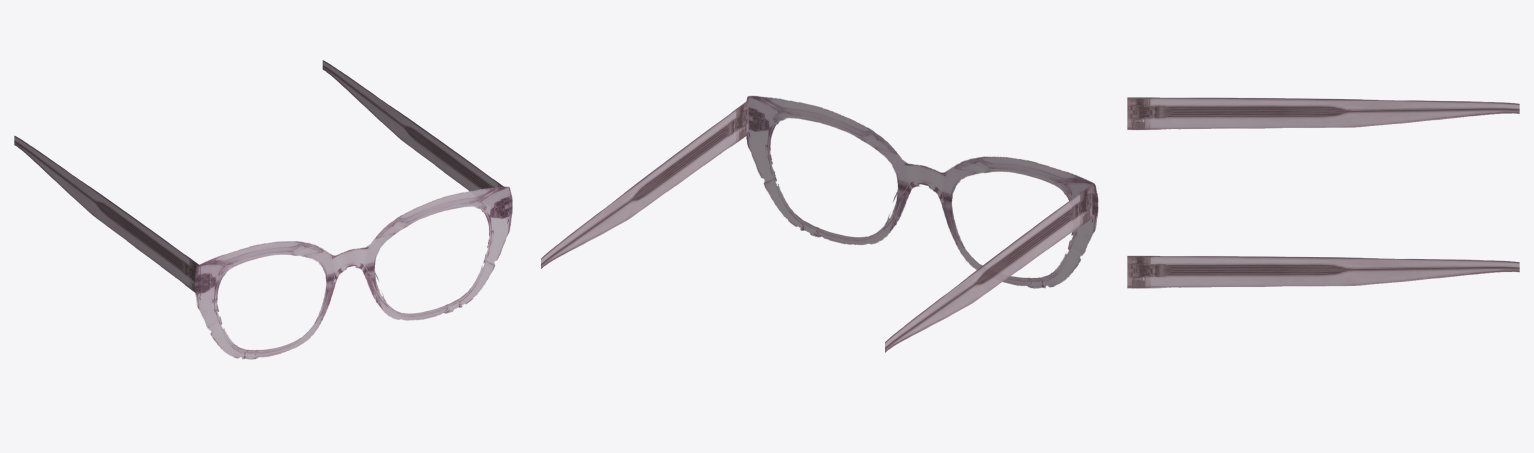
The picture shows the model from 3 angles, left to right: view 1: azimuth 30°, elevation 25°; view 2: azimuth 150°, elevation 25°; view 3: azimuth 270°, elevation 25°; orthographic projection. The views are drawn at different scales.
Parts seen in each view (by area): view 1: Front, Right, Left; view 2: Front, Right, Left; view 3: Left, Right.
Boxes of the visible parts, x1=… form: Front: x1=195, y1=186, x2=512, y2=359; Right: x1=14, y1=135, x2=200, y2=296; Left: x1=322, y1=60, x2=503, y2=191; Front: x1=746, y1=95, x2=1098, y2=288; Right: x1=885, y1=184, x2=1092, y2=352; Left: x1=541, y1=100, x2=748, y2=268; Left: x1=1127, y1=255, x2=1519, y2=288; Right: x1=1127, y1=97, x2=1519, y2=129.
Bounding box in the file's own units: 146 × 109 × 148.
Materials: 4 (4 with a texture image).
